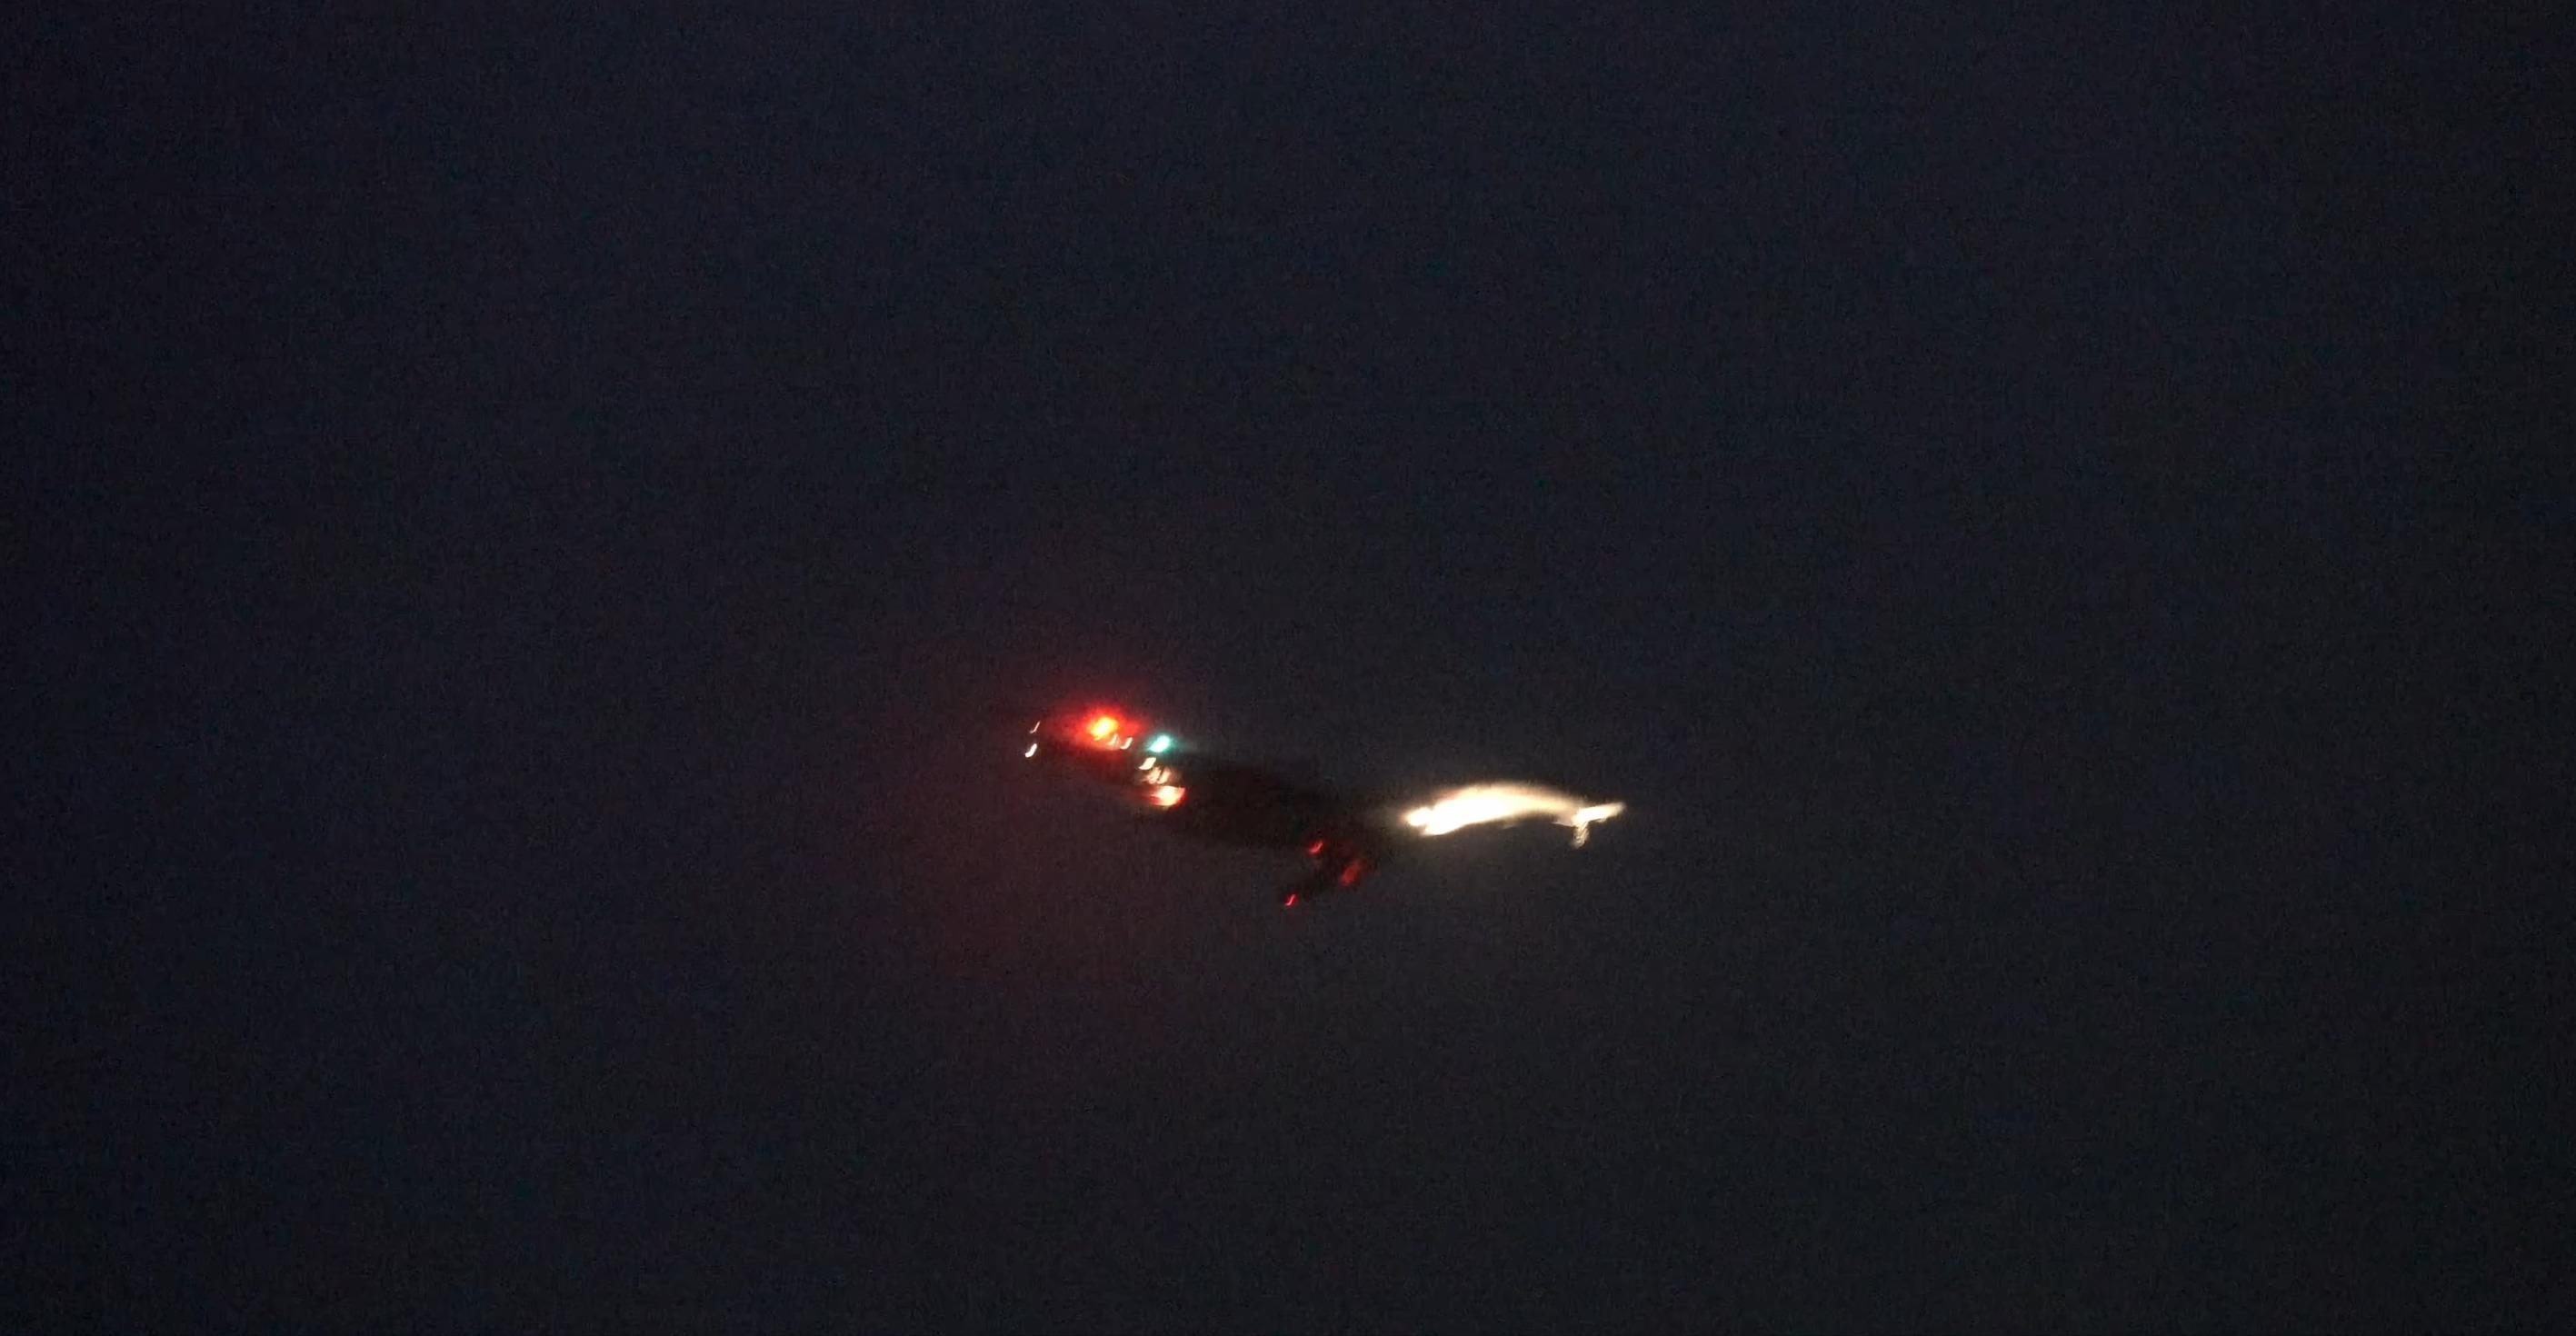Plane: (992, 690, 1673, 917)
